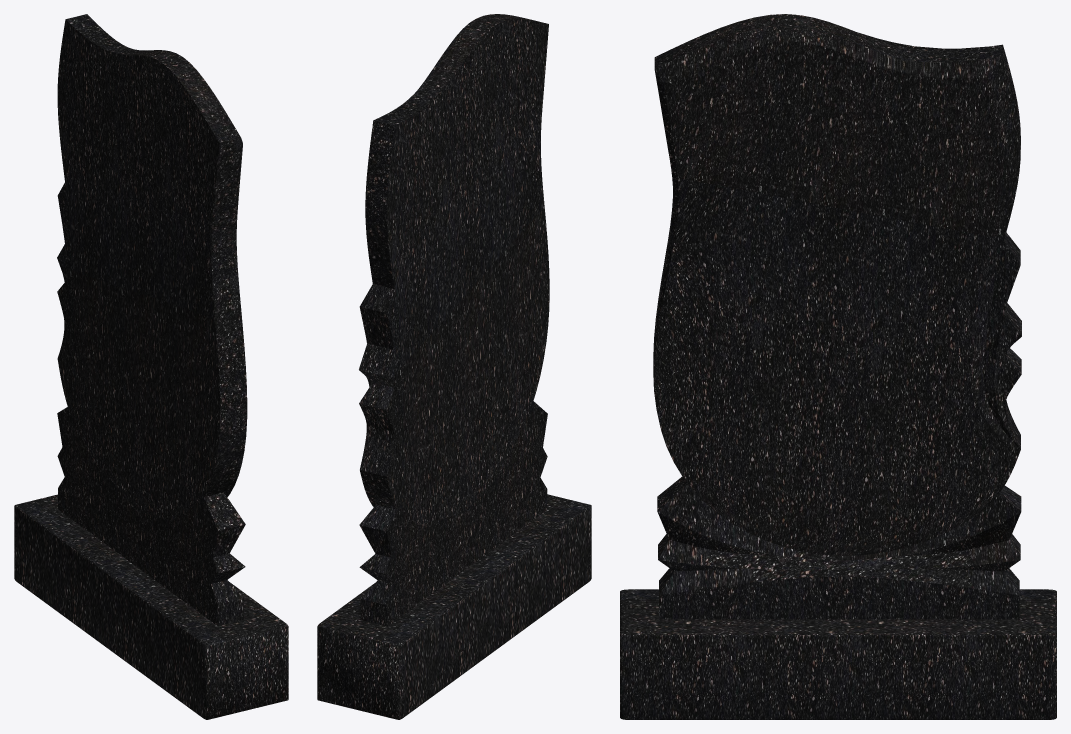
Rendered from Резной [granite_1_standard] (100).glb.
The picture shows the model from 3 angles, left to right: view 1: azimuth 30°, elevation 25°; view 2: azimuth 150°, elevation 25°; view 3: azimuth 270°, elevation 25°; orthographic projection. The views are drawn at different scales.
Visible parts, largest first — view 1: Cube.003, Куб.001, Cube.004; view 2: Cube.003, Куб.001, Cube.004; view 3: Cube.003, Куб.001, Cube.004.
Boxes of the visible parts, box(x1,y1,x2,y2) form: Cube.003: box(57, 14, 247, 519); Куб.001: box(14, 494, 288, 719); Cube.004: box(57, 405, 245, 625); Cube.003: box(359, 14, 549, 524); Куб.001: box(317, 494, 591, 719); Cube.004: box(359, 400, 547, 626); Cube.003: box(653, 14, 1021, 555); Куб.001: box(620, 589, 1056, 719); Cube.004: box(657, 476, 1021, 619).
Size of the model in its own units: 0.15 by 1.03 by 0.6.
Materials: 2 (2 with a texture image).
